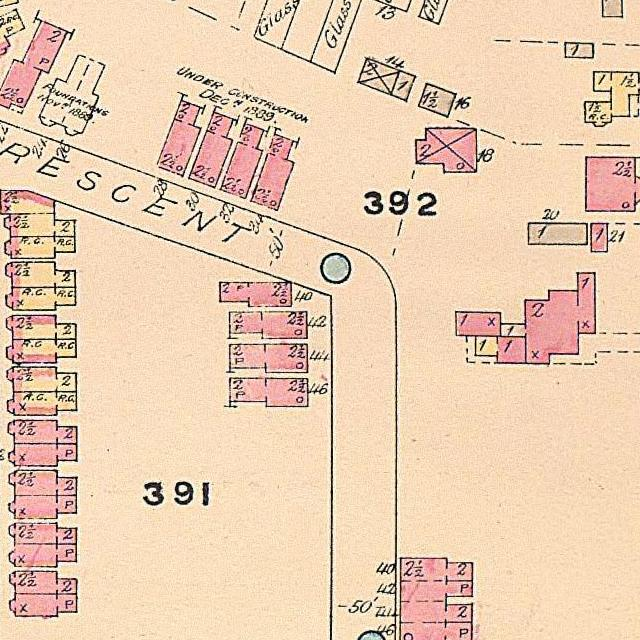building-footprints: (455, 273, 595, 364), (0, 21, 68, 109), (400, 558, 472, 640), (188, 112, 233, 188), (0, 190, 74, 236), (156, 100, 200, 176), (220, 123, 264, 199), (251, 134, 294, 211), (584, 72, 640, 126), (585, 157, 640, 211), (415, 129, 476, 172), (229, 344, 307, 373), (229, 378, 307, 406), (229, 312, 307, 339), (5, 262, 75, 288), (219, 282, 291, 306), (7, 367, 76, 392), (6, 339, 75, 363), (8, 420, 77, 444), (6, 316, 76, 339), (9, 471, 76, 495), (6, 287, 75, 310), (7, 392, 76, 415), (9, 544, 76, 567), (9, 571, 76, 594), (9, 594, 76, 617), (357, 58, 399, 94), (9, 444, 77, 466), (9, 496, 76, 518), (4, 237, 74, 258), (9, 523, 76, 544), (418, 84, 456, 117), (528, 223, 587, 244), (0, 9, 24, 55), (391, 71, 415, 101), (590, 223, 607, 252), (564, 42, 593, 58), (602, 0, 621, 16)
